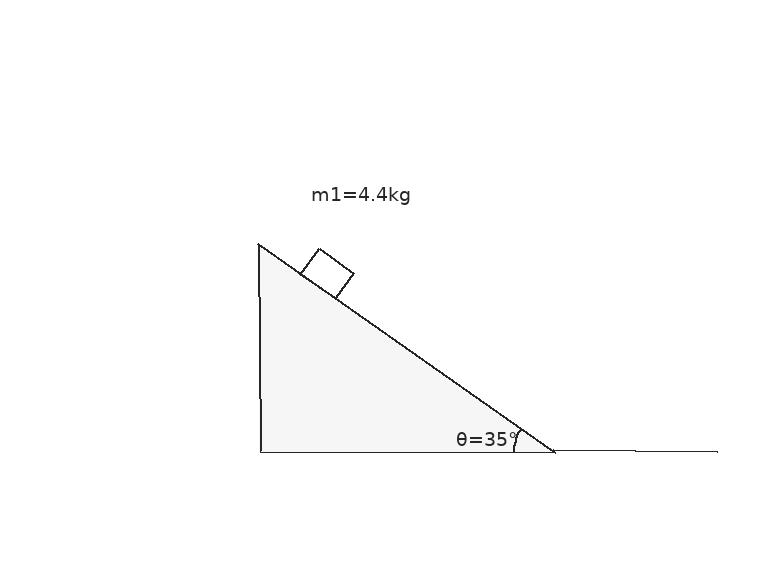block: (299, 247, 355, 300)
ramp: (257, 243, 556, 453)
